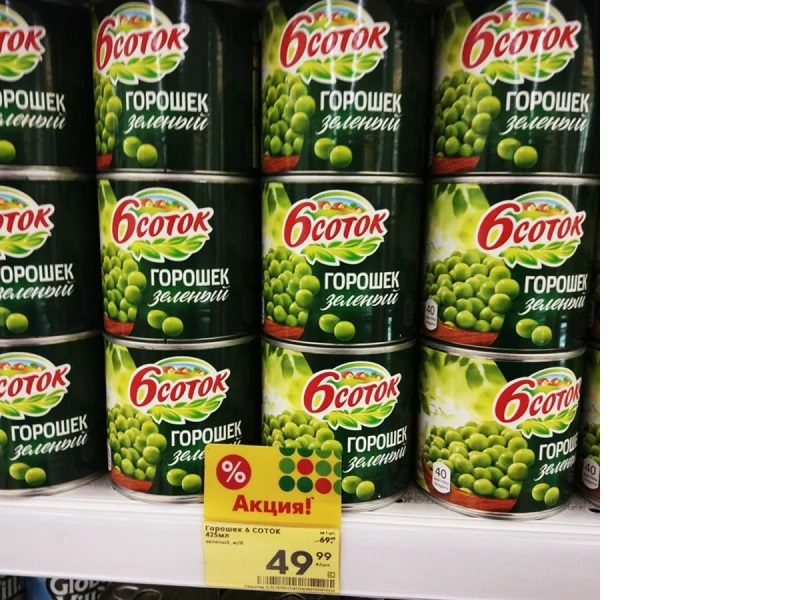peas: (244, 1, 439, 182), (258, 334, 436, 519), (82, 1, 265, 180), (414, 170, 598, 348), (90, 169, 274, 346), (260, 164, 432, 353), (417, 336, 590, 520), (419, 1, 599, 172), (99, 334, 266, 518)
